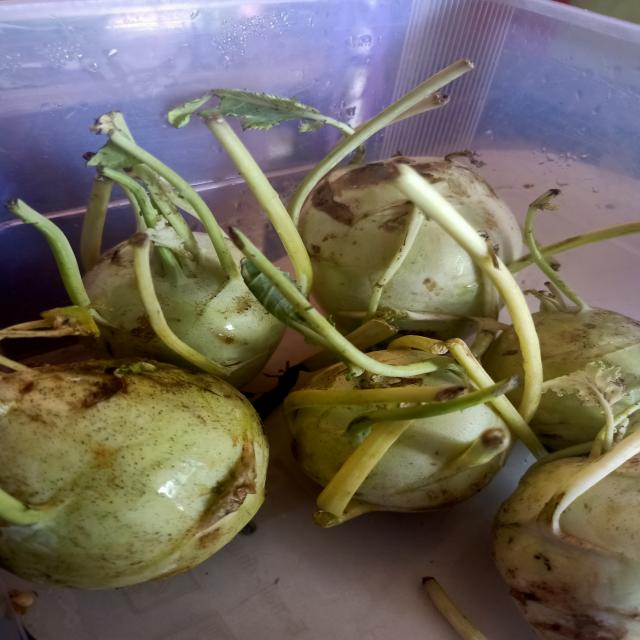Turnip: (0, 359, 268, 590), (73, 111, 284, 387), (298, 156, 523, 340), (283, 363, 518, 528), (493, 458, 640, 640), (529, 290, 640, 415), (530, 386, 607, 451), (367, 336, 450, 367), (484, 329, 524, 380)
